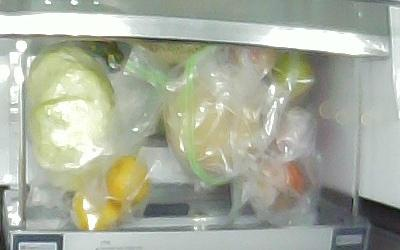cabbage_vinyl: (26, 44, 116, 191)
melon: (136, 38, 208, 60)
pear_vinyl: (167, 95, 259, 171)
tangerine_vinyl: (106, 156, 149, 207), (74, 188, 118, 231)
tomato_vinyl: (270, 52, 315, 97), (263, 162, 305, 209)
